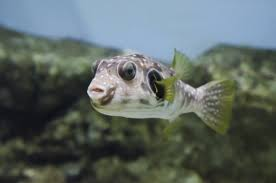kasago: (78, 46, 238, 134)
